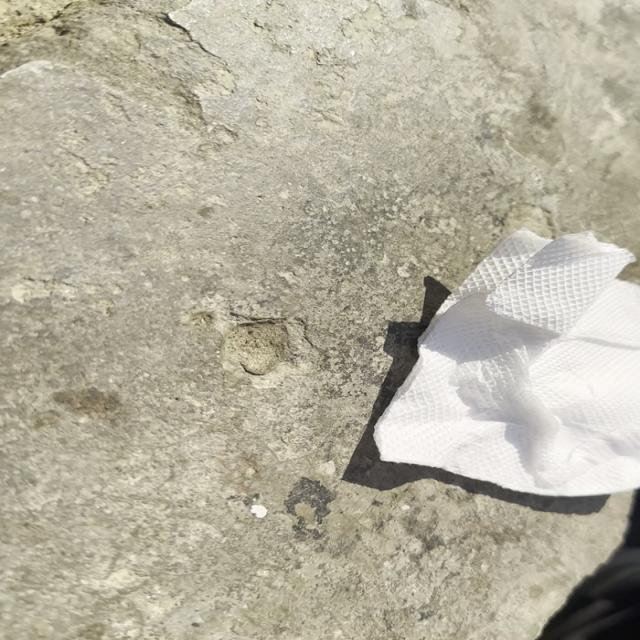tissue: (363, 222, 640, 492)
